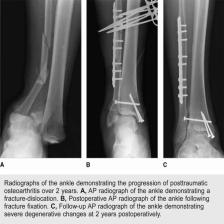intra-articular-fracture: (0, 0, 224, 159)
